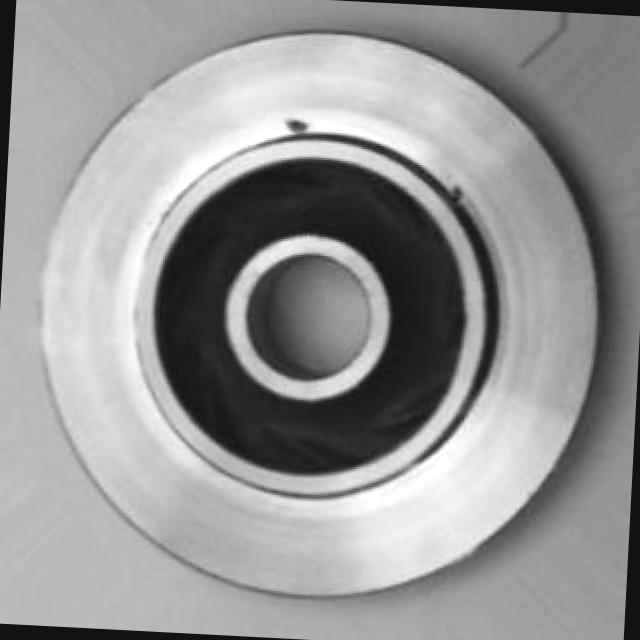Defect: (282, 112, 318, 137)
